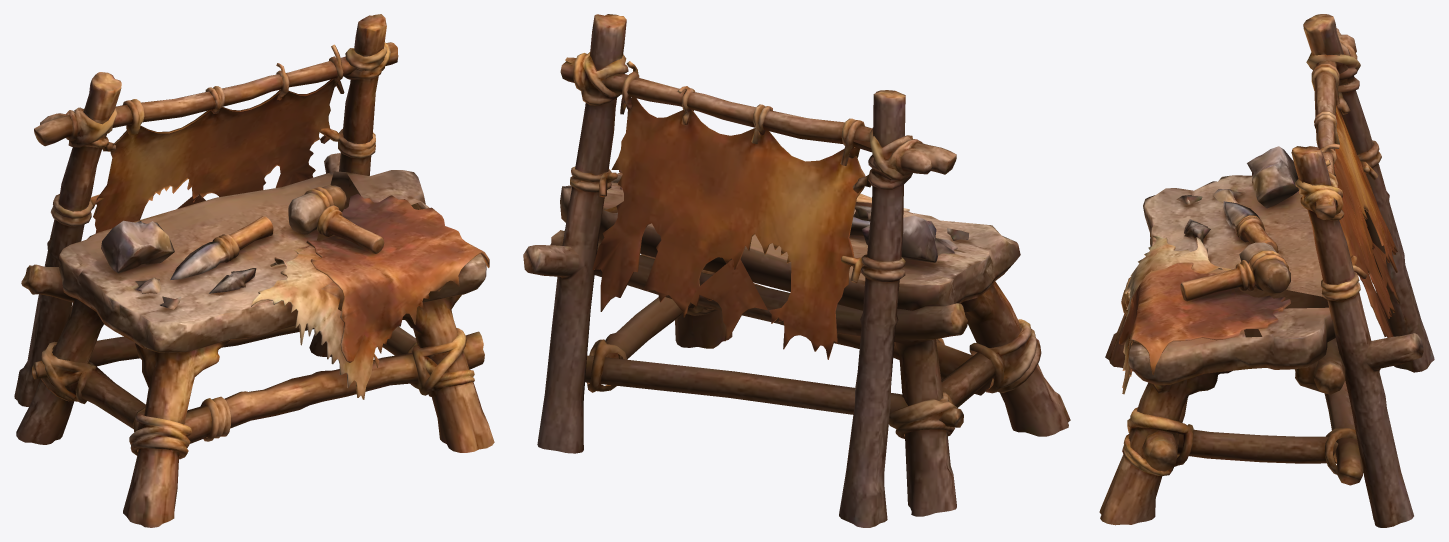
File: workshop-t1.glb
The picture shows the model from 3 angles, left to right: view 1: azimuth 30°, elevation 25°; view 2: azimuth 150°, elevation 25°; view 3: azimuth 270°, elevation 25°; orthographic projection. The views are drawn at different scales.
Parts seen in each view (by area): view 1: tripo_node_e76c4fa8-8c75-4a94-b574-74210771393b; view 2: tripo_node_e76c4fa8-8c75-4a94-b574-74210771393b; view 3: tripo_node_e76c4fa8-8c75-4a94-b574-74210771393b.
Part boxes in pixels (bbox=[...]): tripo_node_e76c4fa8-8c75-4a94-b574-74210771393b: bbox=[14, 14, 494, 527]; tripo_node_e76c4fa8-8c75-4a94-b574-74210771393b: bbox=[523, 14, 1070, 527]; tripo_node_e76c4fa8-8c75-4a94-b574-74210771393b: bbox=[1099, 14, 1434, 527].
Size of the model in its own units: 0.9995 by 0.9165 by 0.7485.
1 material, 1 textured.
